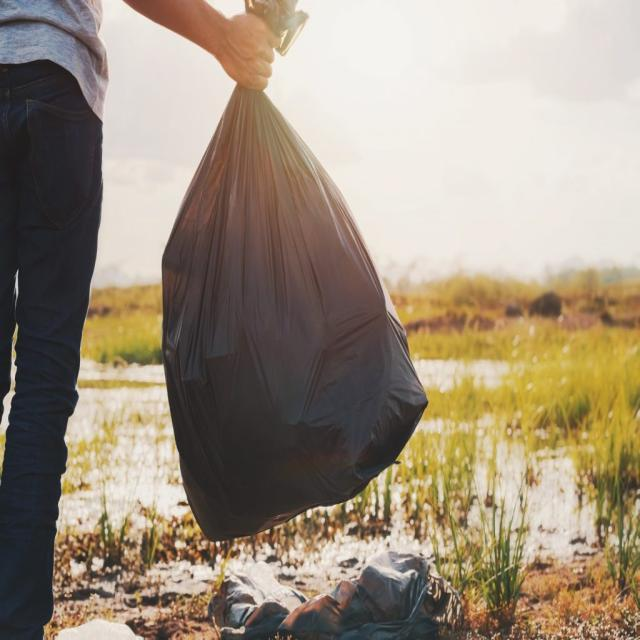Vinyl: (157, 0, 434, 549)
